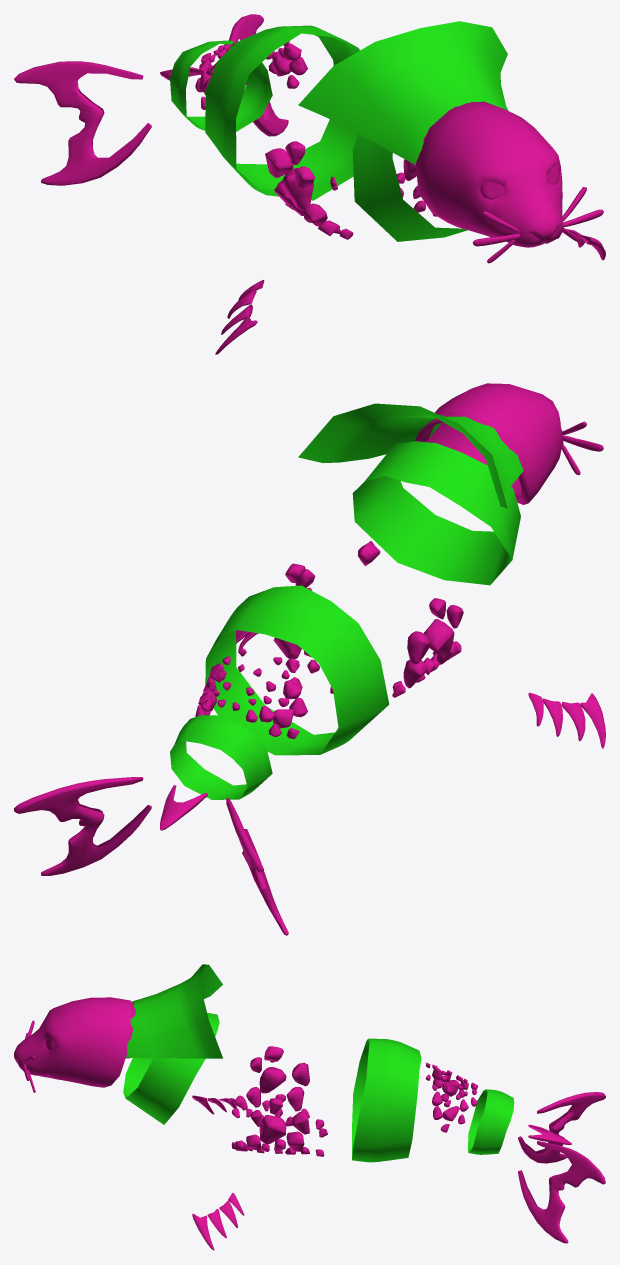
The model's file is Seal_low.fbx.
The picture shows the model from 3 angles, top to bottom: view 1: azimuth 30°, elevation 25°; view 2: azimuth 150°, elevation 25°; view 3: azimuth 270°, elevation 25°; orthographic projection. The views are drawn at different scales.
Visible parts, largest first — view 1: symboles_low, col_low, mask_low, nag_down_low, crystal_body_low, nad_up_low, mustaches_low, eyes_low; view 2: symboles_low, mask_low, col_low, crystal_body_low, nag_down_low, nad_up_low, end_low; view 3: symboles_low, mask_low, crystal_body_low, col_low, nag_down_low, nad_up_low, end_low.
Boxes of the visible parts, <box> form: symboles_low: <box>170,25,467,241</box>; col_low: <box>298,21,508,164</box>; mask_low: <box>415,101,563,247</box>; nag_down_low: <box>14,14,288,185</box>; crystal_body_low: <box>195,41,436,239</box>; nad_up_low: <box>215,229,605,354</box>; mustaches_low: <box>472,187,603,263</box>; eyes_low: <box>480,165,559,199</box>; symboles_low: <box>170,441,520,799</box>; mask_low: <box>423,383,563,504</box>; col_low: <box>298,403,523,508</box>; crystal_body_low: <box>195,541,463,738</box>; nag_down_low: <box>14,777,288,935</box>; nad_up_low: <box>236,630,605,748</box>; end_low: <box>160,785,207,830</box>; symboles_low: <box>123,1012,514,1162</box>; mask_low: <box>14,997,130,1087</box>; crystal_body_low: <box>231,1046,478,1156</box>; col_low: <box>126,964,222,1058</box>; nag_down_low: <box>518,1092,605,1243</box>; nad_up_low: <box>192,1095,244,1250</box>; end_low: <box>528,1124,571,1144</box>.
Size of the model in its own units: 2.73 by 2.1 by 5.
